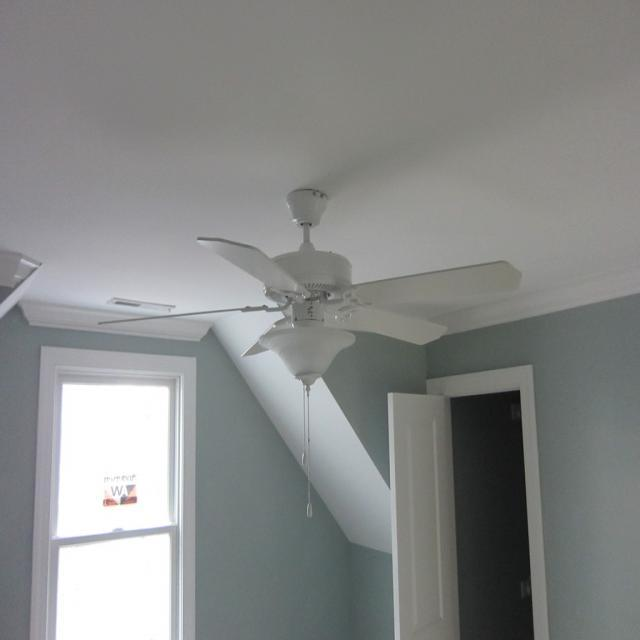fan_off: (85, 188, 522, 338)
